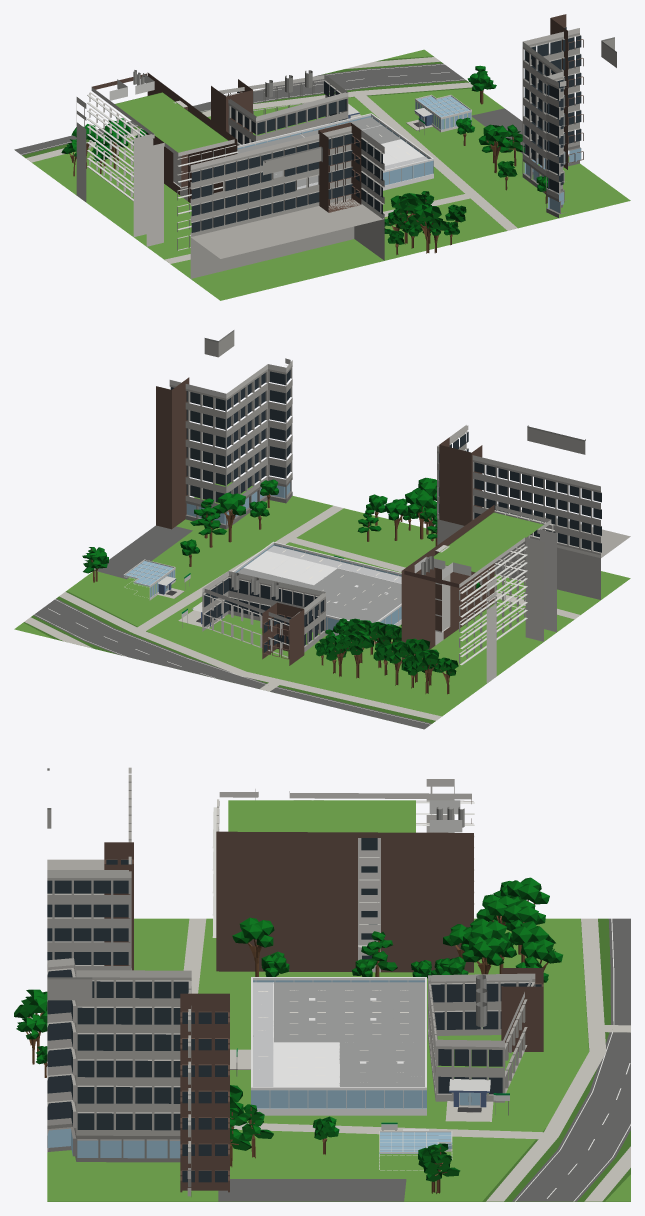
File: lab1.fbx
3 renders of one model, top to bottom at view 1: azimuth 30°, elevation 25°; view 2: azimuth 150°, elevation 25°; view 3: azimuth 270°, elevation 25°, orthographic. The views are drawn at different scales.
Parts seen in each view (by area): view 1: ext_lab1, ext_lab1_trees, wall_lab1; view 2: ext_lab1, ext_lab1_trees, wall_lab1; view 3: ext_lab1, wall_lab1, ext_lab1_trees.
Boxes of the visible parts, left/top/right/bottom form: ext_lab1: left=14, top=14, right=630, bottom=300; ext_lab1_trees: left=61, top=65, right=547, bottom=254; wall_lab1: left=237, top=113, right=433, bottom=190; ext_lab1: left=14, top=330, right=630, bottom=729; ext_lab1_trees: left=82, top=477, right=480, bottom=694; wall_lab1: left=232, top=541, right=401, bottom=643; ext_lab1: left=47, top=767, right=630, bottom=1201; wall_lab1: left=251, top=977, right=426, bottom=1115; ext_lab1_trees: left=14, top=877, right=562, bottom=1193.
Size of the model in its own units: 98.8 by 35.17 by 90.8.
